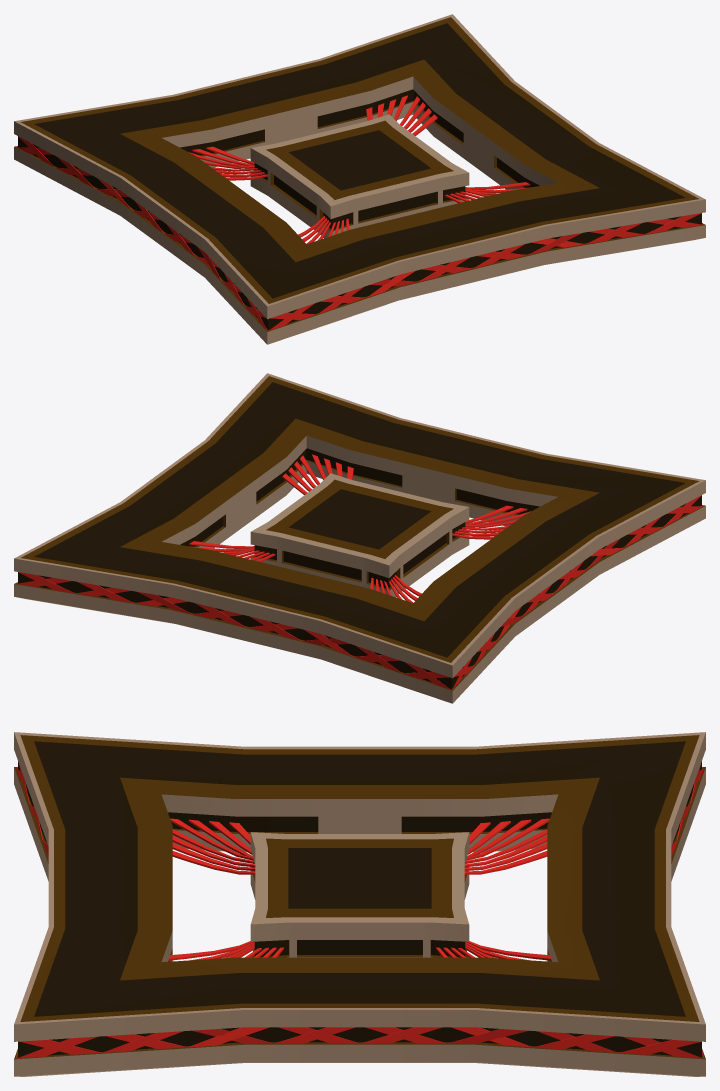
The model's file is Level.1.fbx.
3 renders of one model, top to bottom at view 1: azimuth 30°, elevation 25°; view 2: azimuth 150°, elevation 25°; view 3: azimuth 270°, elevation 25°, orthographic. The views are drawn at different scales.
Visible parts, largest first — view 1: Level.1; view 2: Level.1; view 3: Level.1.
Boxes of the visible parts, left/top/right/bottom form: Level.1: left=14, top=14, right=705, bottom=344; Level.1: left=14, top=373, right=705, bottom=703; Level.1: left=14, top=732, right=705, bottom=1076.
Bounding box in the file's own units: 3504 × 321 × 3504.
